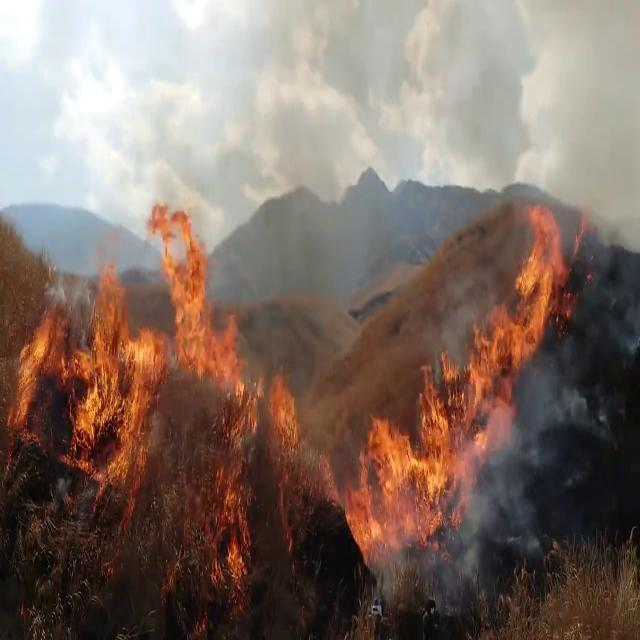Fire: (326, 322, 498, 568), (8, 244, 162, 488), (444, 187, 574, 461), (208, 343, 306, 600), (155, 201, 244, 387)
Smoke: (174, 0, 536, 223)
